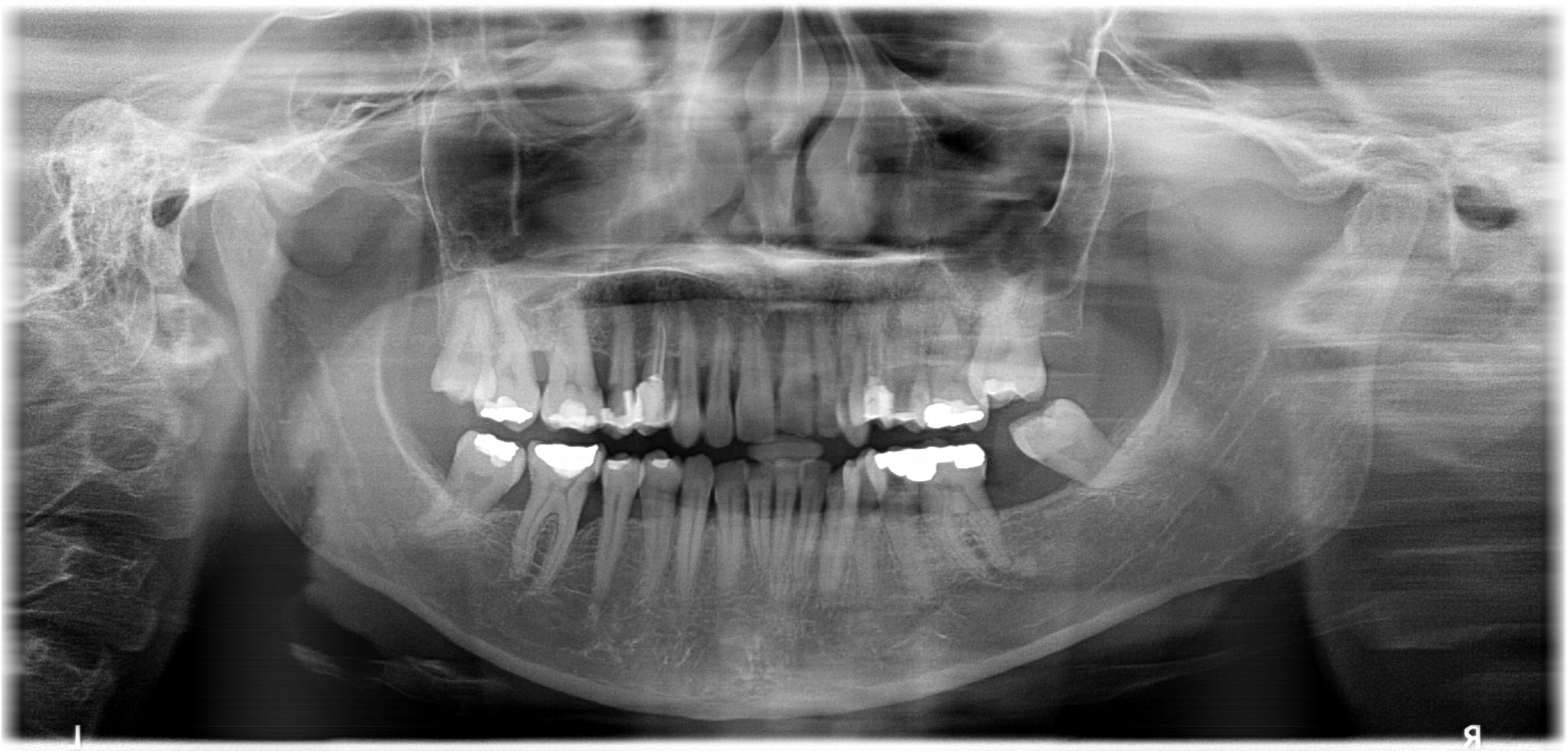Premolars: (448, 181, 1560, 699), (405, 149, 1317, 751), (429, 224, 1419, 751), (300, 251, 907, 696), (322, 235, 955, 516), (315, 251, 898, 523)
